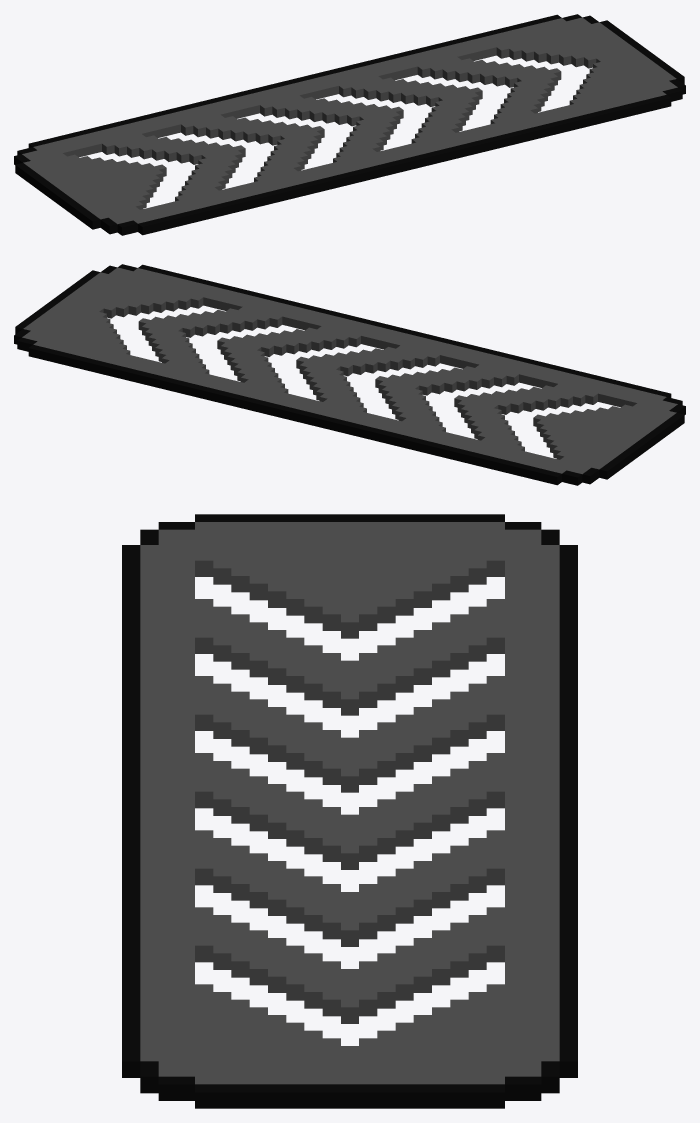
Rendered from BoostPanel-0.obj.
The picture shows the model from 3 angles, top to bottom: view 1: azimuth 30°, elevation 25°; view 2: azimuth 150°, elevation 25°; view 3: azimuth 270°, elevation 25°; orthographic projection. The views are drawn at different scales.
Visible parts, largest first — view 1: BoostPanel-0; view 2: BoostPanel-0; view 3: BoostPanel-0.
Boxes of the visible parts, x1,y1,x2,y2 form: BoostPanel-0: (14, 14, 685, 235); BoostPanel-0: (14, 264, 685, 485); BoostPanel-0: (122, 514, 577, 1108).
Size of the model in its own units: 75 by 1 by 25.
Materials: 1 (1 with a texture image).
